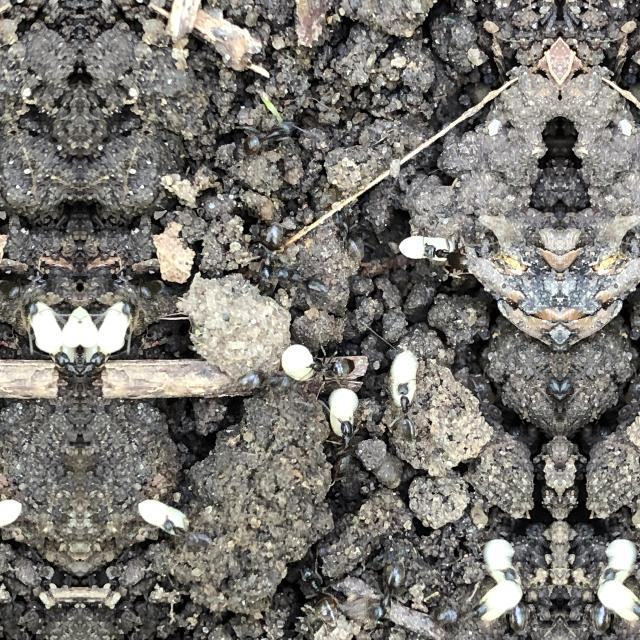Tapinoma: (428, 581, 498, 639), (294, 552, 346, 630), (363, 552, 412, 630), (240, 106, 304, 164), (304, 336, 362, 392), (246, 212, 286, 290), (385, 372, 423, 452), (118, 264, 170, 322), (326, 410, 368, 478), (233, 354, 297, 398), (0, 262, 42, 322), (425, 234, 483, 274), (80, 338, 110, 400), (50, 338, 80, 400), (620, 581, 640, 639)
